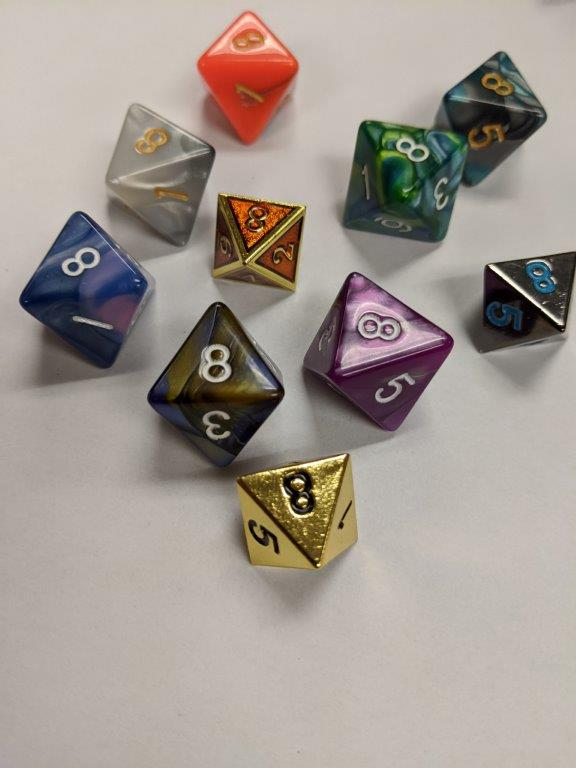d8-8: (302, 273, 452, 432), (149, 301, 284, 469), (18, 212, 157, 368), (103, 102, 214, 248), (342, 117, 469, 241), (434, 49, 548, 183), (236, 454, 359, 567), (200, 12, 299, 146), (212, 190, 306, 293), (481, 253, 576, 354)
